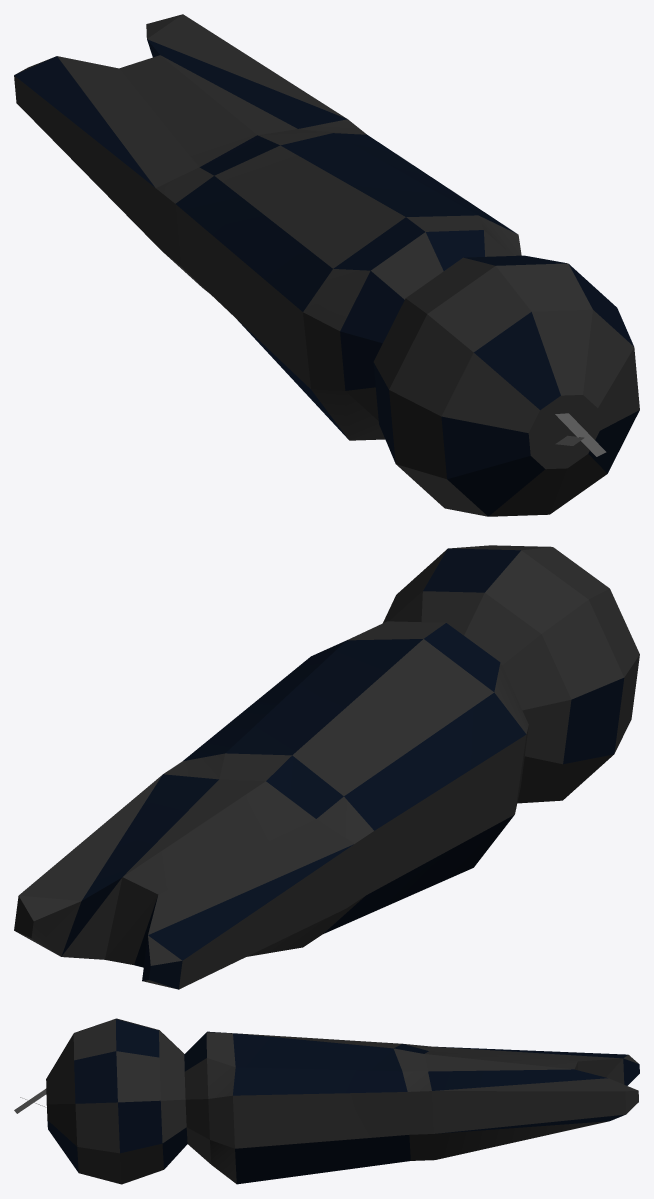
Rendered from cuerpo.glb.
The picture shows the model from 3 angles, top to bottom: view 1: azimuth 30°, elevation 25°; view 2: azimuth 150°, elevation 25°; view 3: azimuth 270°, elevation 25°; orthographic projection. The views are drawn at different scales.
Parts seen in each view (by area): view 1: Plane; view 2: Plane; view 3: Plane.
Boxes of the visible parts, bbox=[...] form: Plane: bbox=[14, 14, 639, 516]; Plane: bbox=[14, 545, 639, 989]; Plane: bbox=[14, 1018, 639, 1184].
Bounding box in the file's own units: 0.2005 × 0.2033 × 0.7358.
